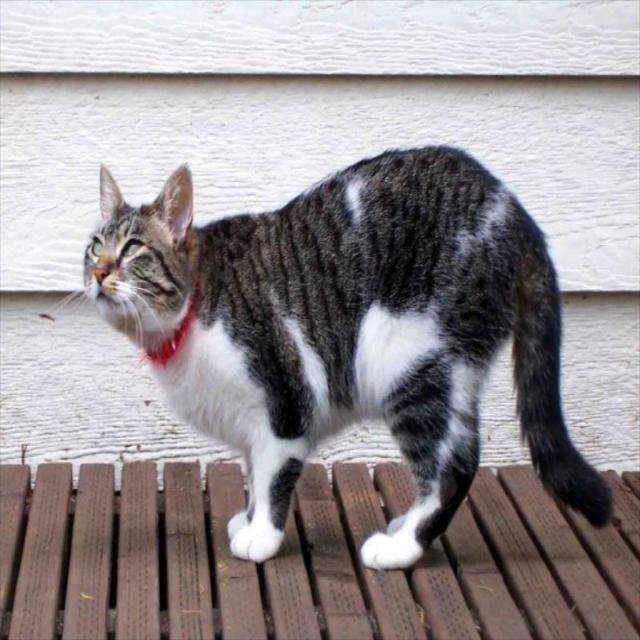Cat: (36, 138, 609, 569)
